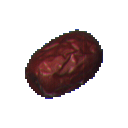gd: (12, 14, 112, 115)
